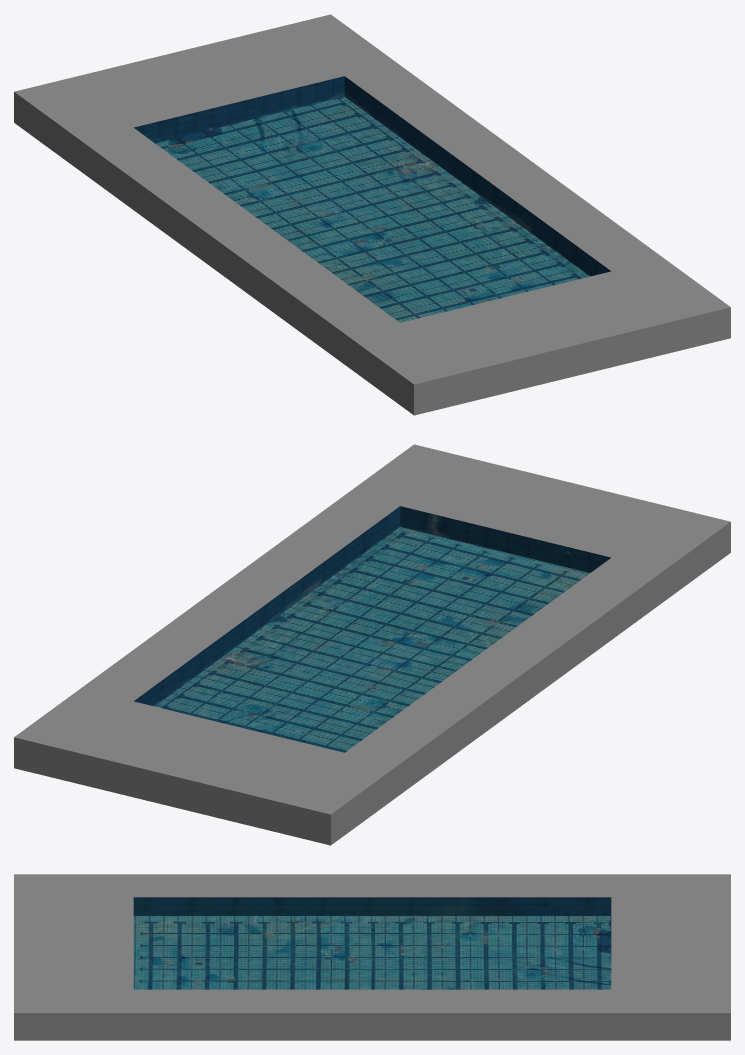
Rendered from WoollettPool.dae.
3 renders of one model, top to bottom at view 1: azimuth 30°, elevation 25°; view 2: azimuth 150°, elevation 25°; view 3: azimuth 270°, elevation 25°, orthographic. The views are drawn at different scales.
Visible parts, largest first — view 1: WoollettPool; view 2: WoollettPool; view 3: WoollettPool.
Part boxes in pixels (x1=…): WoollettPool: x1=14, y1=14, x2=730, y2=415; WoollettPool: x1=14, y1=444, x2=730, y2=845; WoollettPool: x1=14, y1=874, x2=730, y2=1040.
Bounding box in the file's own units: 34.29 × 75 × 3.2.
Materials: 2 (1 with a texture image).
